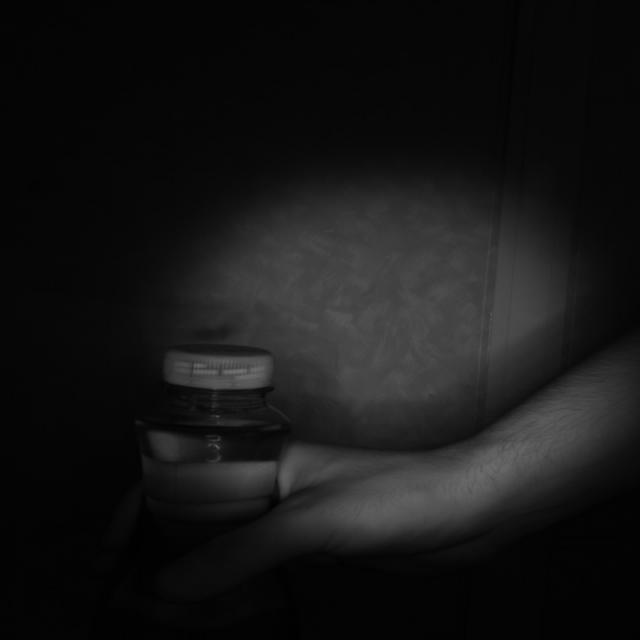Good: (160, 347, 276, 390)
